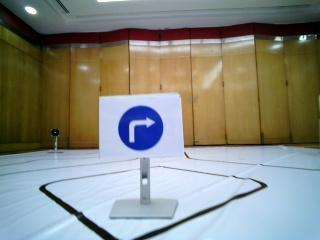right: (101, 101, 171, 152)
